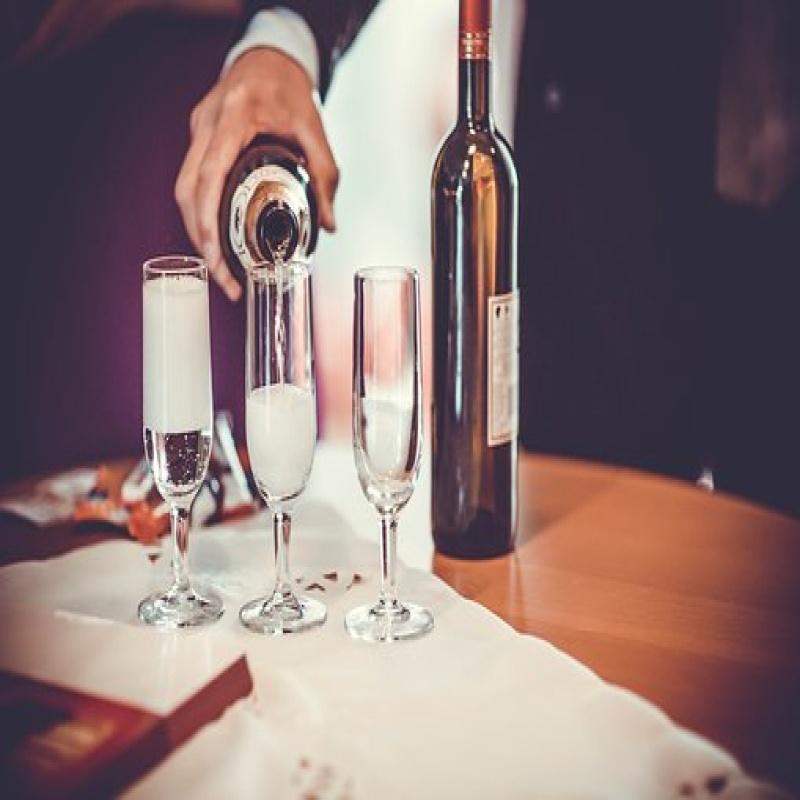wine: (428, 2, 525, 564)
